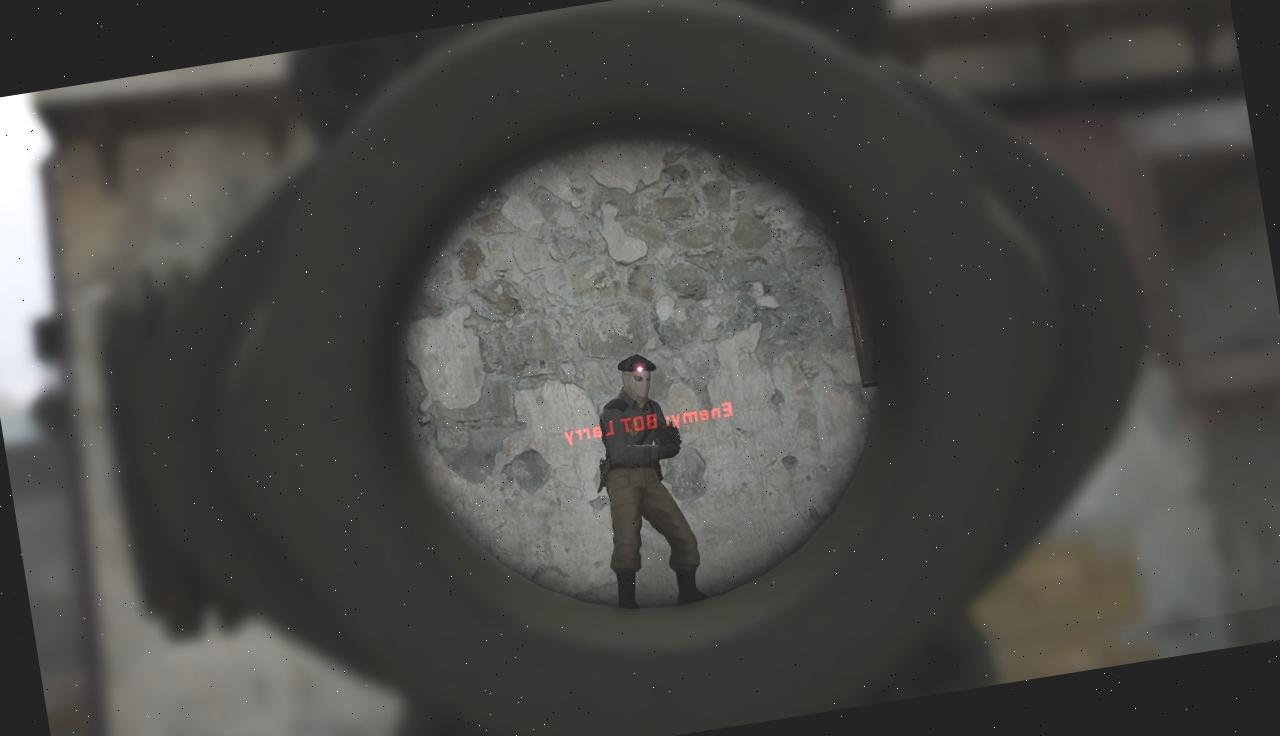tt: (586, 352, 696, 604)
tthead: (618, 355, 655, 403)
